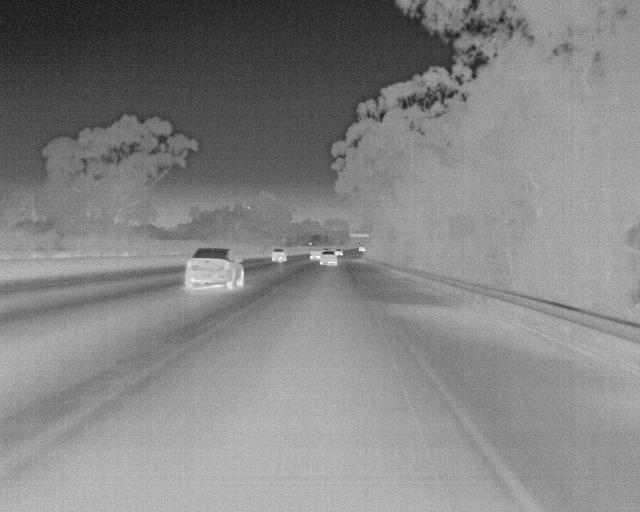car: (184, 246, 247, 293), (320, 251, 340, 270), (269, 246, 289, 263), (309, 249, 324, 264)
